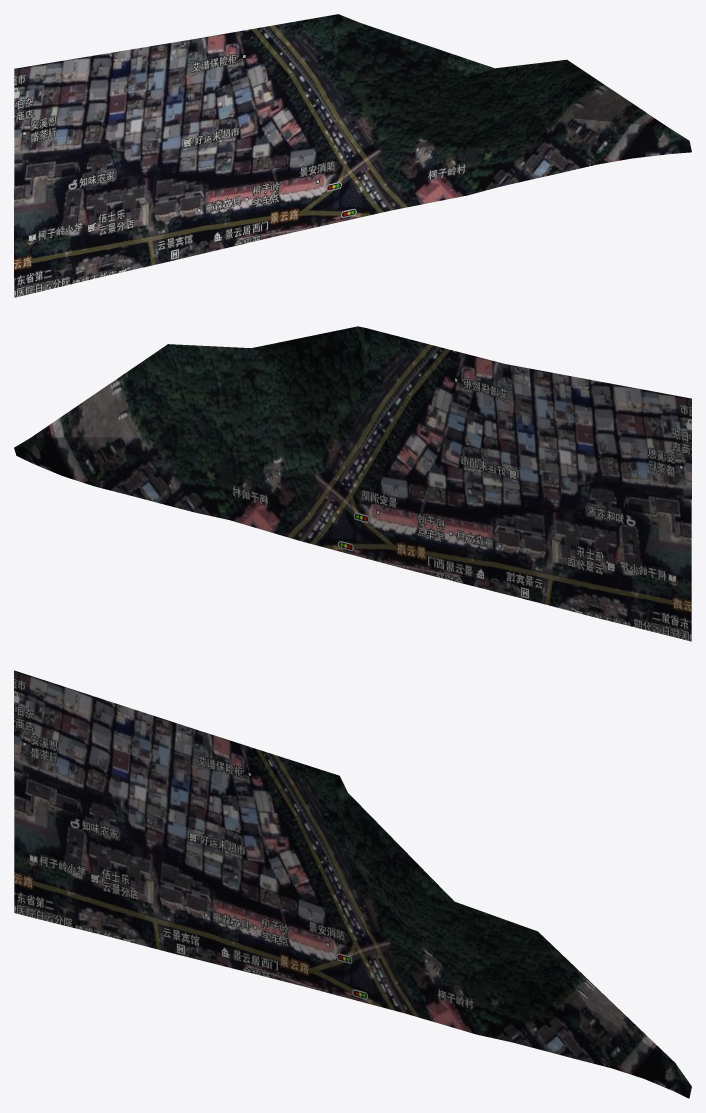
The picture shows the model from 3 angles, top to bottom: view 1: azimuth 30°, elevation 25°; view 2: azimuth 150°, elevation 25°; view 3: azimuth 330°, elevation 25°; orthographic projection. The views are drawn at different scales.
Parts seen in each view (by area): view 1: 0_0_1_2_0_0; view 2: 0_0_1_2_0_0; view 3: 0_0_1_2_0_0.
Boxes of the visible parts, x1,y1,x2,y2 form: 0_0_1_2_0_0: [14, 14, 691, 297]; 0_0_1_2_0_0: [14, 326, 691, 641]; 0_0_1_2_0_0: [14, 670, 691, 1098].
Bounding box in the file's own units: 486 × 162 × 41.9.
1 material, 1 textured.
